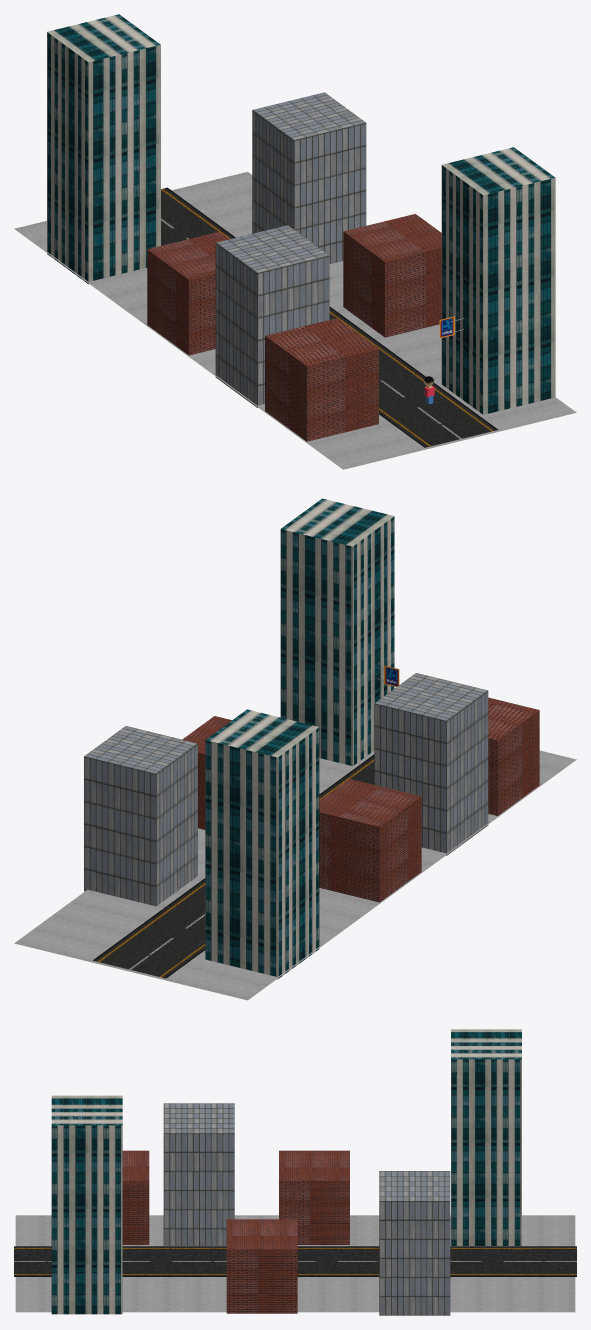
File: butast_primer.gltf
3 renders of one model, top to bottom at view 1: azimuth 30°, elevation 25°; view 2: azimuth 150°, elevation 25°; view 3: azimuth 270°, elevation 25°, orthographic. The views are drawn at different scales.
Visible parts, largest first — view 1: City; view 2: City; view 3: City.
Part boxes in pixels (box(x1,y1,x2,y2)): City: box(14, 14, 576, 469); City: box(14, 498, 576, 1000); City: box(14, 1029, 576, 1315).
Size of the model in its own units: 9.44 by 8.41 by 22.73.
12 materials, 12 textured.
